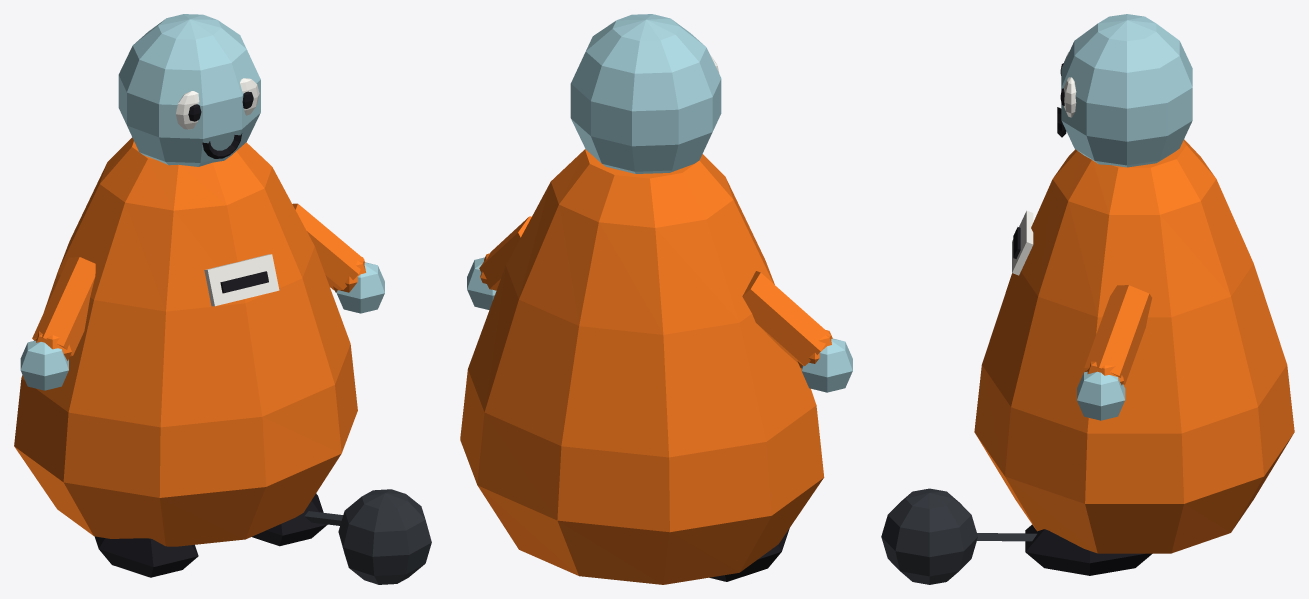
The model's file is npc_preso.glb.
3 views of the same model, side by side, from view 1: azimuth 30°, elevation 25°; view 2: azimuth 150°, elevation 25°; view 3: azimuth 270°, elevation 25° (orthographic). The views are drawn at different scales.
Parts seen in each view (by area): view 1: body_jumpsuit, head_skin_celeste, props_iron, arms_jumpsuit, legs_black, arms_skin_celeste, body_white, face_white, face_black, body_black; view 2: body_jumpsuit, head_skin_celeste, arms_jumpsuit, arms_skin_celeste, legs_black; view 3: body_jumpsuit, head_skin_celeste, props_iron, arms_jumpsuit, legs_black, arms_skin_celeste, body_white.
Boxes of the visible parts, x1,y1,x2,y2 form: body_jumpsuit: (14,137,357,546); head_skin_celeste: (118,14,260,166); props_iron: (338,489,431,584); arms_jumpsuit: (32,203,365,360); legs_black: (94,493,327,577); arms_skin_celeste: (20,262,384,390); body_white: (204,254,279,306); face_white: (175,78,259,129); face_black: (188,91,253,158); body_black: (220,271,268,293); body_jumpsuit: (460,149,824,584); head_skin_celeste: (570,14,721,173); arms_jumpsuit: (479,216,832,368); arms_skin_celeste: (467,257,852,392); legs_black: (709,528,789,581); body_jumpsuit: (974,139,1294,553); head_skin_celeste: (1061,14,1192,167); props_iron: (881,488,977,584); arms_jumpsuit: (1084,285,1151,385); legs_black: (1025,524,1152,575); arms_skin_celeste: (1077,371,1125,420); body_white: (1012,210,1033,275).
Size of the model in its own units: 1.13 by 1.53 by 1.11.
